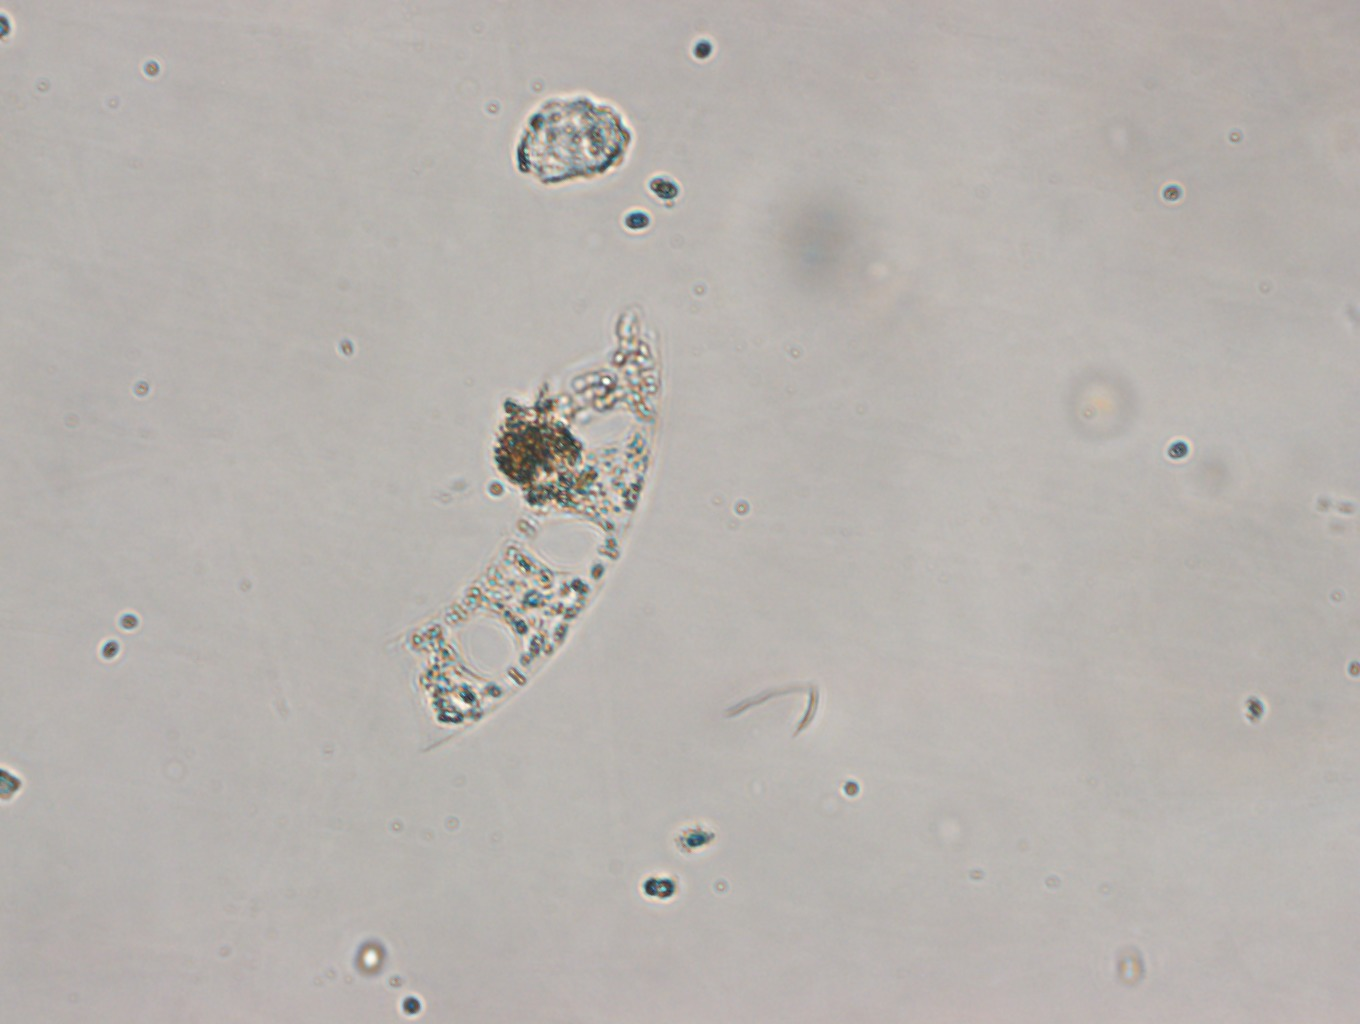eucampia: (392, 296, 677, 762)
